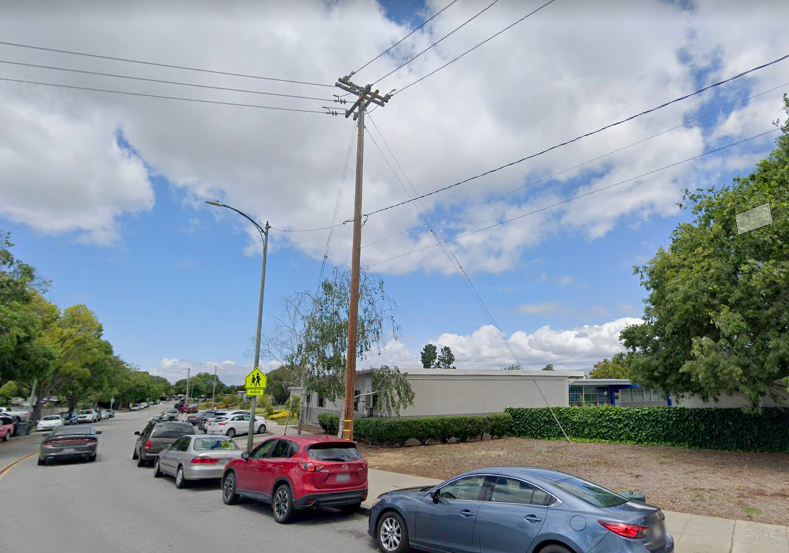utility_pole: (321, 65, 401, 142)
